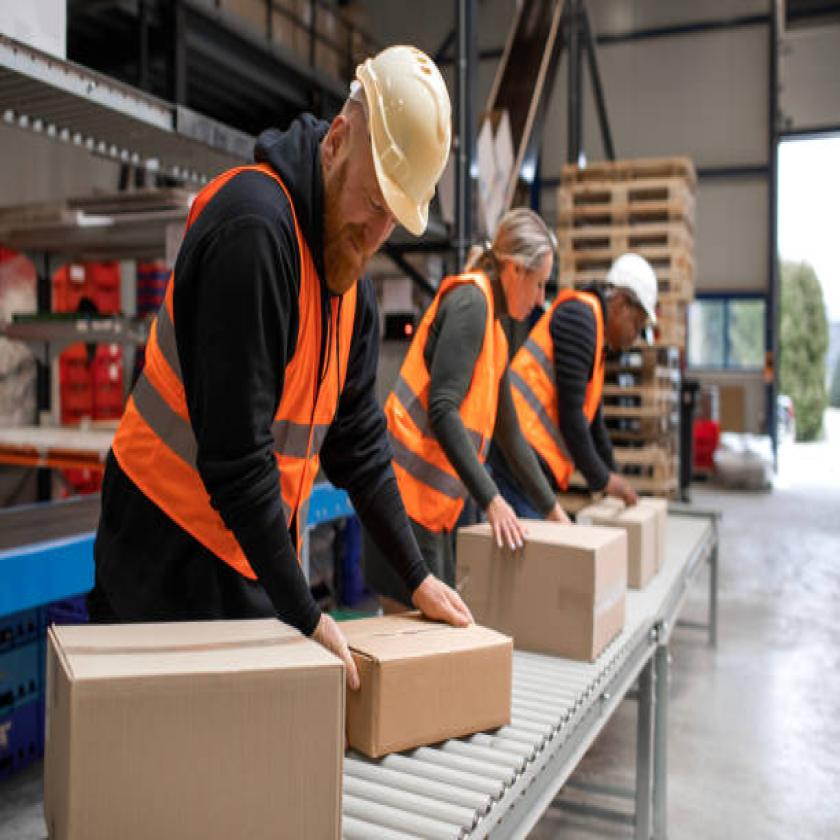Con_casco: (327, 10, 461, 310), (593, 227, 660, 377)
Sin_casco: (469, 207, 558, 332)
